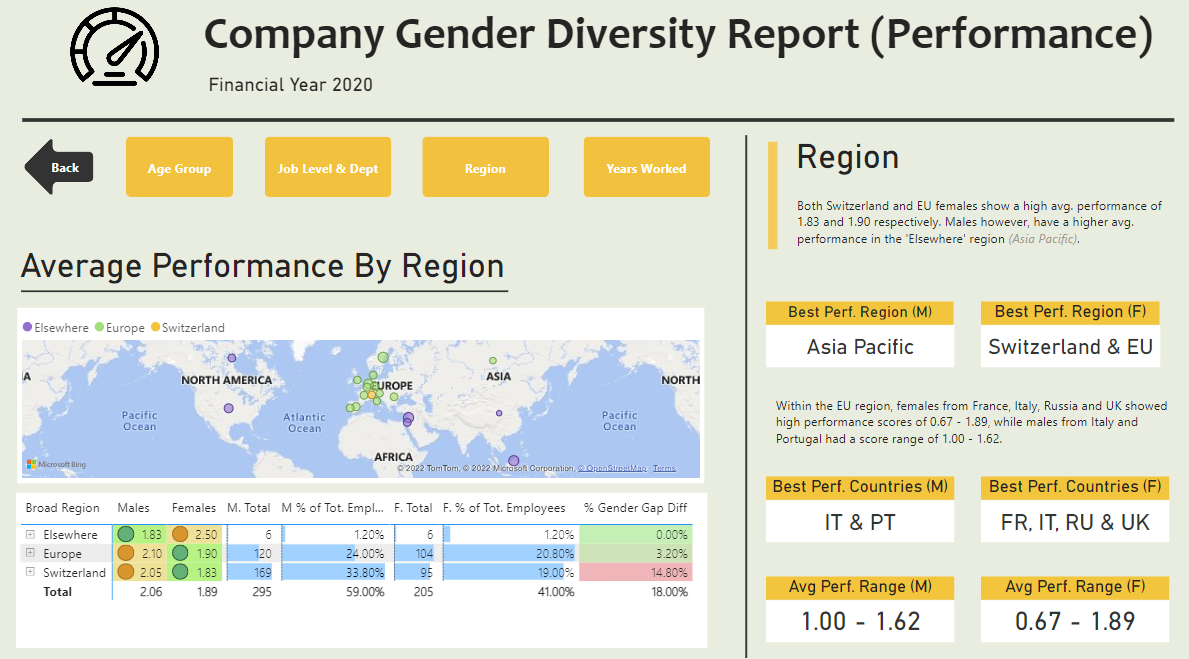

What the dashboard file says about the page in this screenshot:
{"tool":"powerbi","page":{"name":"Performance","canvas":[1280,720],"ordinal":3},"visuals":[{"type":"shape","title":"Company Gender Diversity Report (Performance)","box":[221.1,17,1020.3,66.3],"z":0,"group":"g9"},{"type":"actionButton","title":"Years Worked Button","box":[625.9,158,135.1,65.1],"z":0,"group":"g8"},{"type":"group","id":"g1","title":"AG Right (Body Insight & Cards)","box":[818,158,439.9,552],"z":0,"group":"g6"},{"type":"shape","title":"Average Performance By Gender & Age","box":[24,274.1,653.7,47],"z":0,"group":"g4"},{"type":"pivotTable","title":"Avg Perf Rating By Gender & Age Group Table)","fields":{"Rows":["FACT-table.AgeGroup","FACT-table.Age"],"Values":["Measures.Performance.FY20 Avg Male Perf Rating","Measures.Performance.FY20 Avg Female Perf Rating","Measures.Employees.FY20 Total Male Employees","Measures.Employees.FY20 % of Male Employees Against Total Employees","Measures.Employees.FY20 Total Female Employees","Measures.Employees.FY20 % of Female Employees Against Total Employees","Measures.Employees.FY20 % Gender Gap Difference"]},"box":[21.8,335,736.6,301],"z":0,"group":"g3"},{"type":"shape","title":"57%","box":[822.4,355.9,154.7,44.4],"z":0,"group":"g11"},{"type":"shape","title":"57%","box":[995,356.5,160.3,44.4],"z":0,"group":"g10"},{"type":"shape","title":"32%","box":[822,525.3,400,44.7],"z":0,"group":"g7"},{"type":"group","id":"g2","title":"(AG) Avg F Perf Range","box":[1051,642,180.6,67.9],"z":0,"group":"g1"},{"type":"shape","title":"57%","box":[818,666.6,179.7,43.4],"z":0,"group":"g5"},{"type":"shape","title":"57%","box":[1051,666.6,179.7,43.4],"z":0,"group":"g2"},{"type":"shape","title":"Financial Year 2020","box":[226.4,89.1,399.3,33.9],"z":1000,"group":"g9"},{"type":"actionButton","title":"Region Button","box":[454,158,135.1,65.1],"z":1000,"group":"g8"},{"type":"group","id":"g3","title":"AG Left (Visuals)","box":[21.8,274.1,736.6,361.9],"z":1000,"group":"g6"},{"type":"group","id":"g4","title":"Avg Performance By Age Group (Headline)","box":[24,274.1,653.7,63.6],"z":1000,"group":"g3"},{"type":"shape","title":"Underline","box":[25.5,303.7,630,34],"z":1000,"group":"g4"},{"type":"shape","title":"Avg Male Perf.","box":[822.4,330.7,154.3,24.8],"z":1000,"group":"g11"},{"type":"shape","title":"Avg Female Perf.","box":[995,331.3,159.8,24.8],"z":1000,"group":"g10"},{"type":"shape","title":"Best Perf. Groups w/ Equal Population Size (M & F)","box":[822,500,398.9,24.9],"z":1000,"group":"g7"},{"type":"group","id":"g5","title":"(AG) Avg M Perf Range","box":[818,642,180,68],"z":1000,"group":"g1"},{"type":"shape","title":"Avg. Perf Range (M)","box":[818,642,179.2,24.2],"z":1000,"group":"g5"},{"type":"shape","title":"Avg. Perf Range (F)","box":[1051,642,179.2,24.2],"z":1000,"group":"g2"},{"type":"shape","title":"Body Line Separator","box":[27.5,120.9,1229.2,37.1],"z":2000,"group":"g9"},{"type":"actionButton","title":"Job Level & Dept Button","box":[286.3,158,135.1,65.1],"z":2000,"group":"g8"},{"type":"textbox","title":"AG insight 3","box":[821,585,436.3,67.9],"z":2000,"group":"g1"},{"type":"shape","title":"Line Separator","box":[793.9,155.2,11,557.6],"z":3000,"group":"g9"},{"type":"group","id":"g6","title":"Age Group","box":[21.8,158,1236.1,552],"z":3000},{"type":"actionButton","title":"Age Group Button","box":[137.8,158,114.6,65.1],"z":3000,"group":"g8"},{"type":"group","id":"g7","title":"M, 30 - 39","box":[822,500,400,70],"z":3000,"group":"g1"},{"type":"group","id":"g8","title":"Navigation Buttons","box":[27.7,158,733.3,65.1],"z":4000},{"type":"actionButton","title":"Back Button","box":[27.7,158,76,65.1],"z":4000,"group":"g8"},{"type":"textbox","title":"AG insight 2","box":[821,420,436,69],"z":4000,"group":"g1"},{"type":"group","id":"g9","title":"Headline","box":[27.5,17,1229.2,695.8],"z":5000},{"type":"group","id":"g10","title":"Female Turnovers","box":[995,331.3,160,69.6],"z":5000,"group":"g1"},{"type":"image","title":"Performance Page Icon","box":[61.3,0,129.5,122.6],"z":6000},{"type":"group","id":"g11","title":"Male Turnovers","box":[822.4,330.7,155,69.6],"z":6000,"group":"g1"},{"type":"textbox","title":"AG insight 1","box":[849,217.1,408.8,80],"z":7000,"group":"g1"},{"type":"shape","title":"Age Group Yellow Sub-Head (Line)","box":[821.3,163.1,12,128],"z":8000,"group":"g1"},{"type":"shape","title":"Age Group","box":[852.1,158,168.4,46.2],"z":9000,"group":"g1"}]}

Visuals, with their boxes in screenshot pixels (x1, y1, x2, y2), scaled from the page's 1280x720 canvas onto the 1189x659 screenshot:
"Company Gender Diversity Report (Performance)" shape: region(205, 16, 1153, 76)
"Years Worked Button" actionButton: region(581, 145, 707, 204)
"AG Right (Body Insight & Cards)" group: region(760, 145, 1168, 650)
"Average Performance By Gender & Age" shape: region(22, 251, 630, 294)
"Avg Perf Rating By Gender & Age Group Table)" pivotTable: region(20, 307, 704, 582)
"57%" shape: region(764, 326, 908, 366)
"57%" shape: region(924, 326, 1073, 367)
"32%" shape: region(764, 481, 1135, 522)
"(AG) Avg F Perf Range" group: region(976, 588, 1144, 650)
"57%" shape: region(760, 610, 927, 650)
"57%" shape: region(976, 610, 1143, 650)
"Financial Year 2020" shape: region(210, 82, 581, 113)
"Region Button" actionButton: region(422, 145, 547, 204)
"AG Left (Visuals)" group: region(20, 251, 704, 582)
"Avg Performance By Age Group (Headline)" group: region(22, 251, 630, 309)
"Underline" shape: region(24, 278, 609, 309)
"Avg Male Perf." shape: region(764, 303, 907, 325)
"Avg Female Perf." shape: region(924, 303, 1073, 326)
"Best Perf. Groups w/ Equal Population Size (M & F)" shape: region(764, 458, 1134, 480)
"(AG) Avg M Perf Range" group: region(760, 588, 927, 650)
"Avg. Perf Range (M)" shape: region(760, 588, 926, 610)
"Avg. Perf Range (F)" shape: region(976, 588, 1143, 610)
"Body Line Separator" shape: region(26, 111, 1167, 145)
"Job Level & Dept Button" actionButton: region(266, 145, 391, 204)
"AG insight 3" textbox: region(763, 535, 1168, 598)
"Line Separator" shape: region(737, 142, 748, 652)
"Age Group" group: region(20, 145, 1168, 650)
"Age Group Button" actionButton: region(128, 145, 234, 204)
"M, 30 - 39" group: region(764, 458, 1135, 522)
"Navigation Buttons" group: region(26, 145, 707, 204)
"Back Button" actionButton: region(26, 145, 96, 204)
"AG insight 2" textbox: region(763, 384, 1168, 448)
"Headline" group: region(26, 16, 1167, 652)
"Female Turnovers" group: region(924, 303, 1073, 367)
"Performance Page Icon" image: region(57, 0, 177, 112)
"Male Turnovers" group: region(764, 303, 908, 366)
"AG insight 1" textbox: region(789, 199, 1168, 272)
"Age Group Yellow Sub-Head (Line)" shape: region(763, 149, 774, 266)
"Age Group" shape: region(792, 145, 948, 187)
